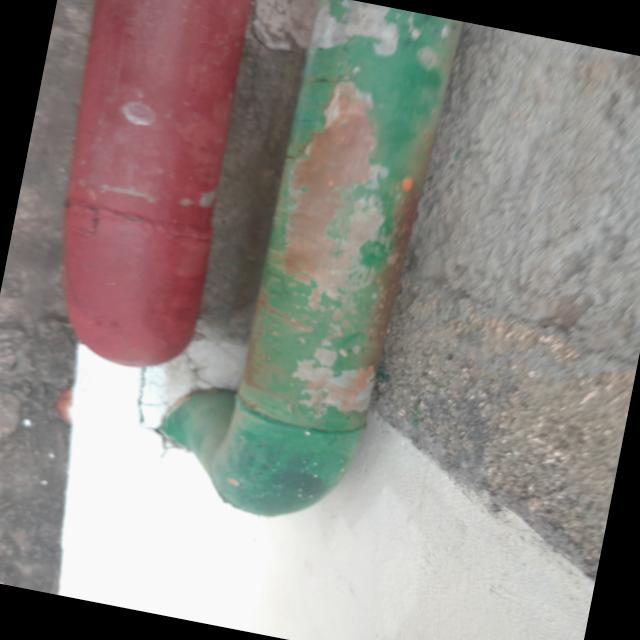gas: (177, 0, 458, 515), (64, 0, 250, 366)
